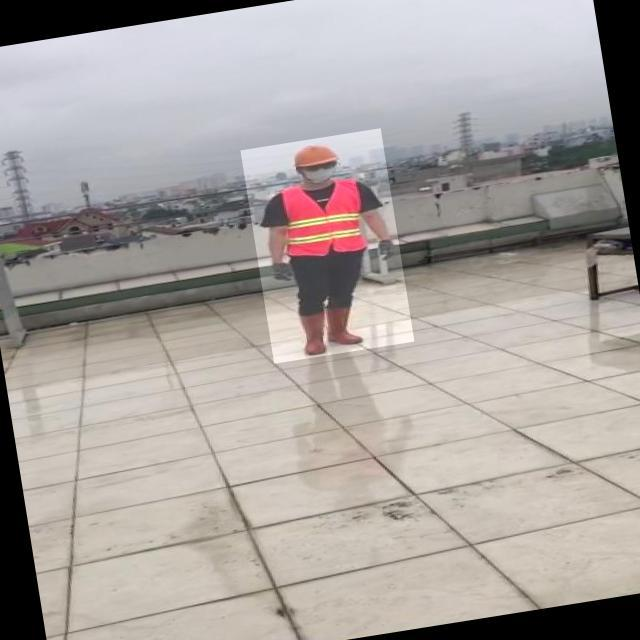Gloves: (269, 259, 294, 284), (376, 238, 395, 261)
Helmet: (288, 140, 341, 170)
Human: (241, 129, 415, 364)
Safety Boot: (322, 298, 367, 349), (298, 309, 336, 357)
Safety Vest: (275, 178, 369, 261)
